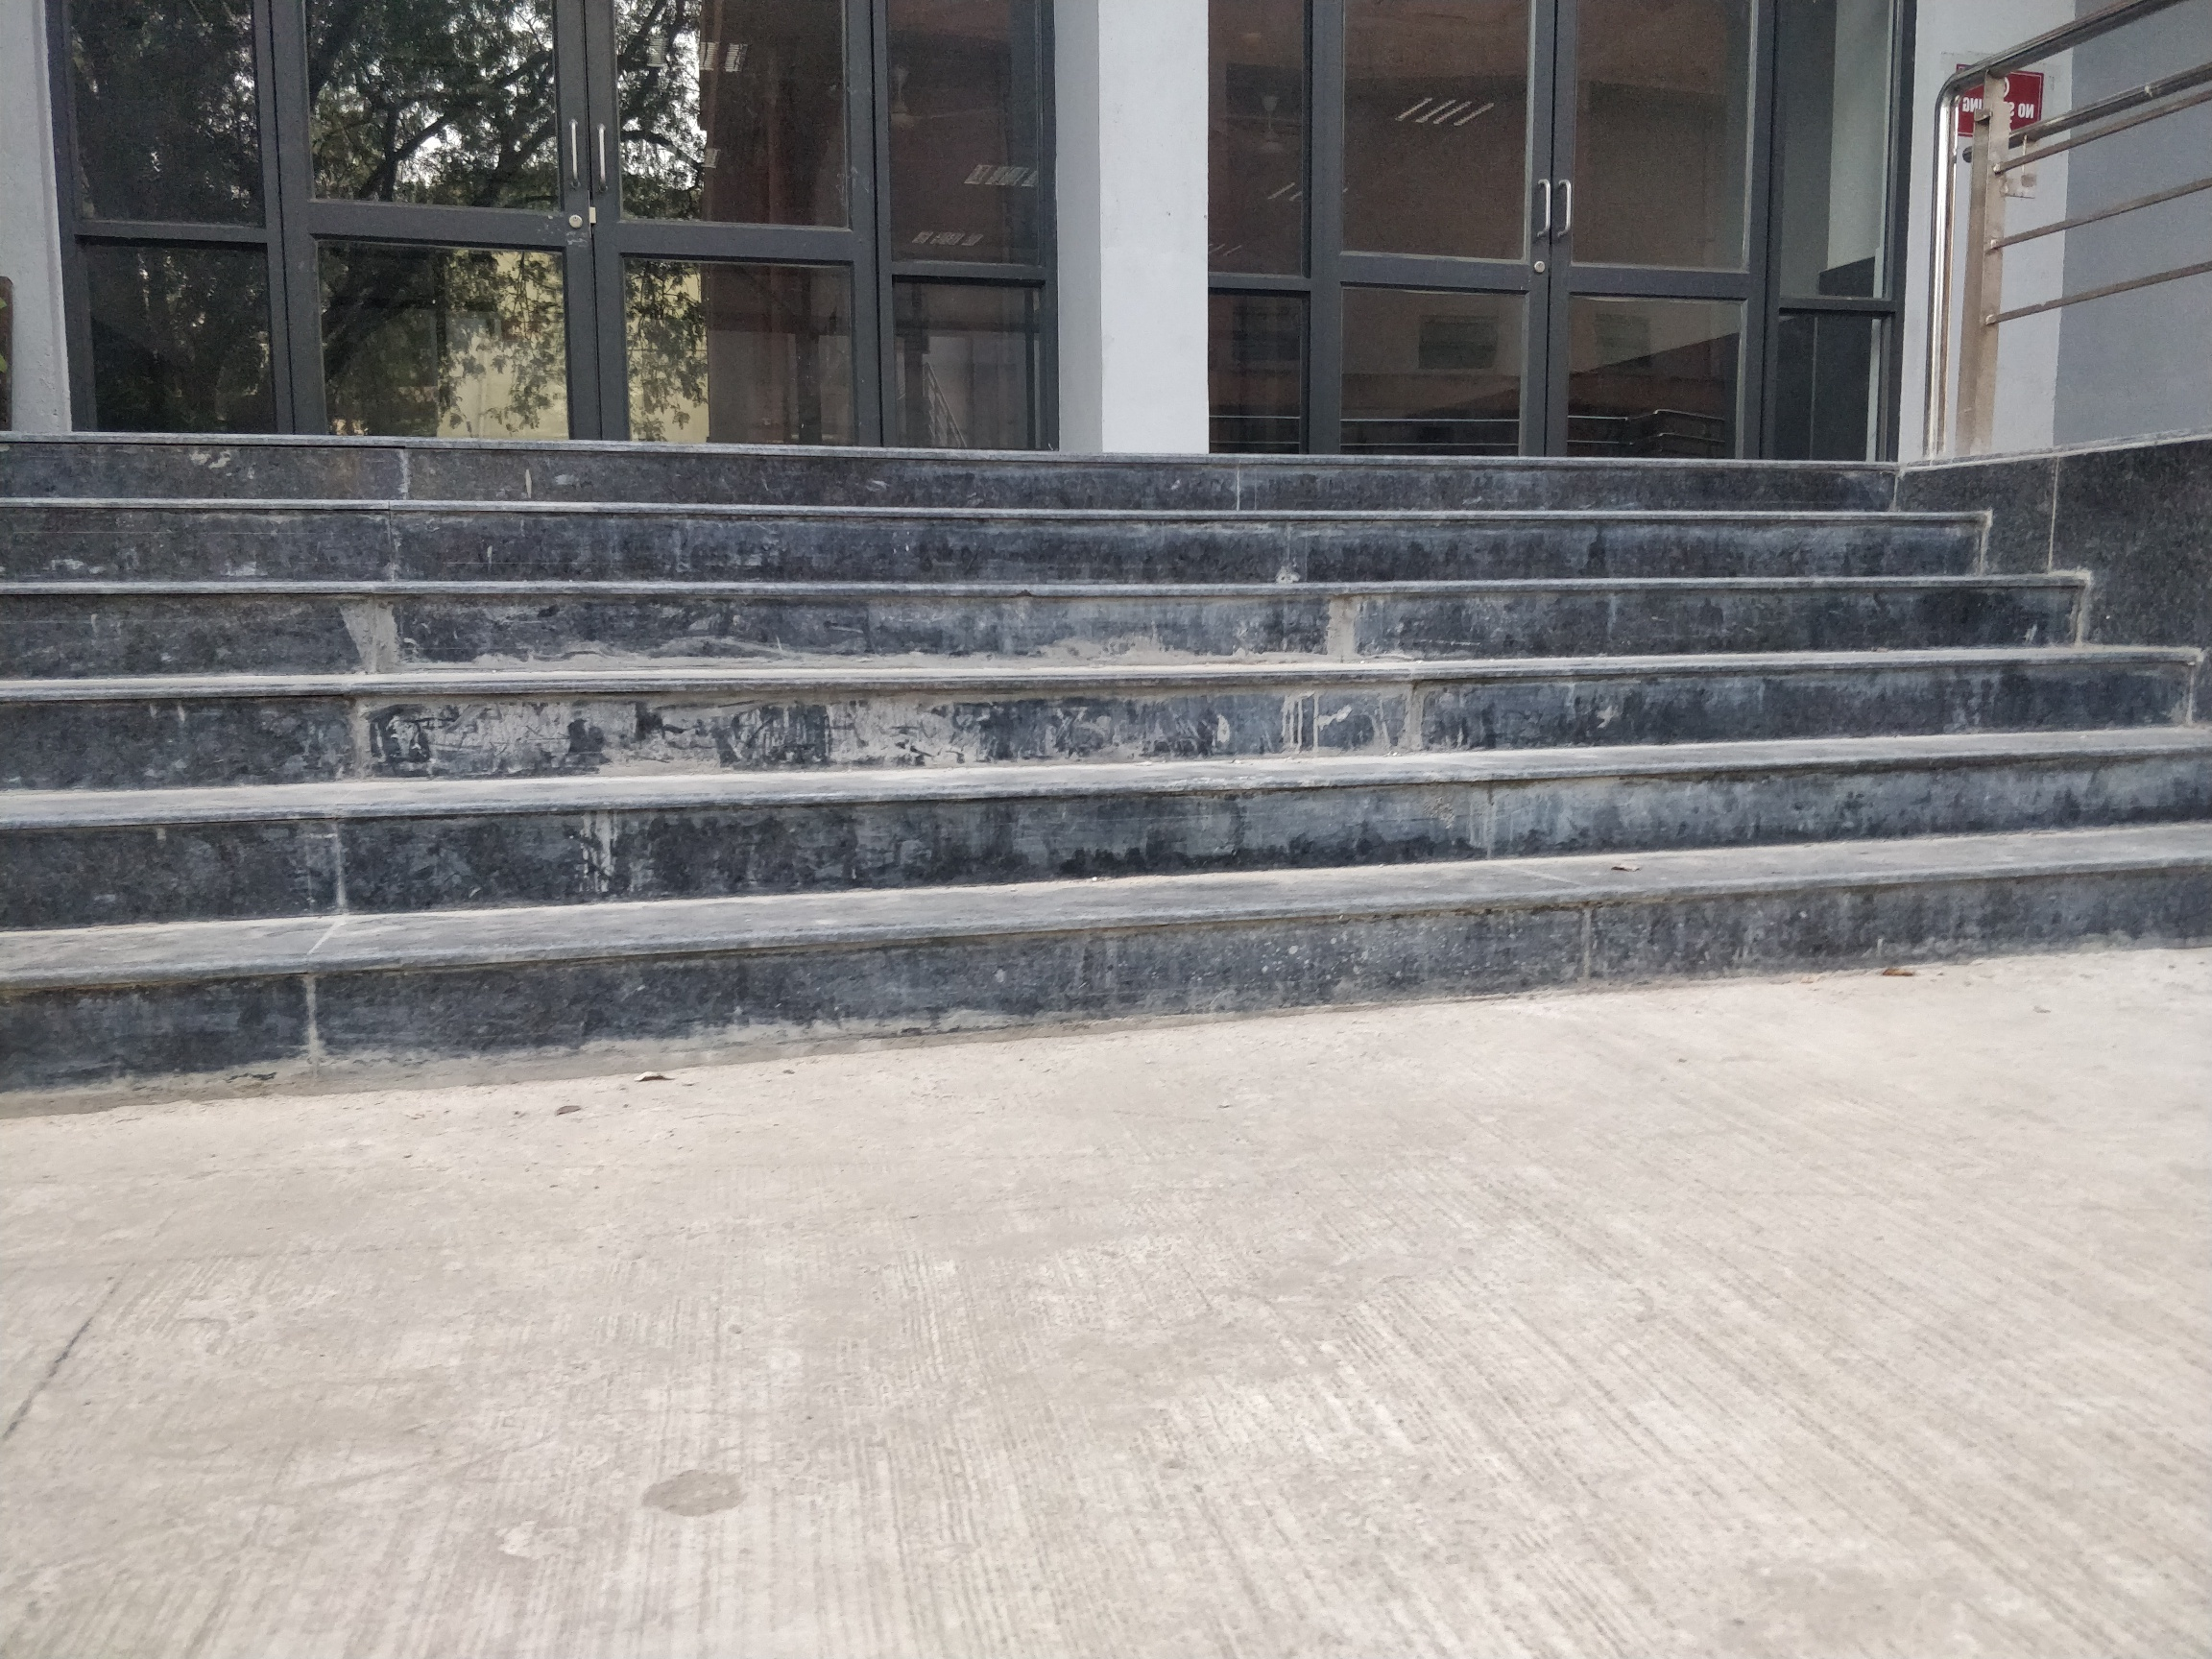stairs_up: (21, 427, 2189, 1035)
